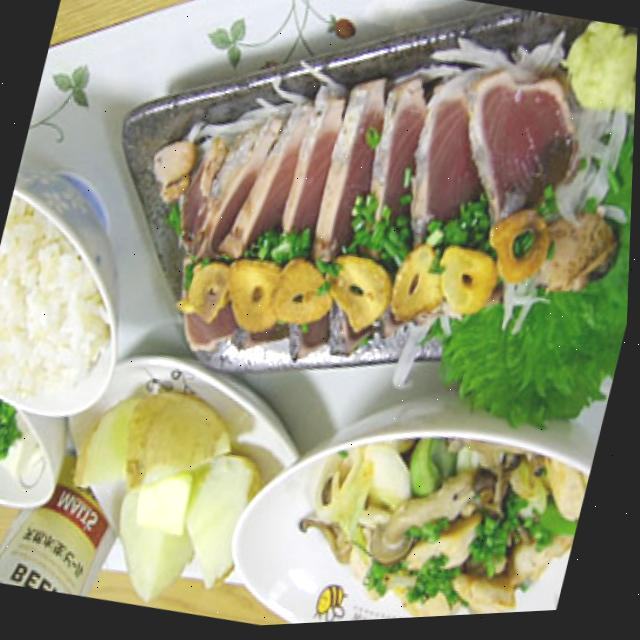熟制海鲜: (87, 0, 627, 454)
米饭主食: (0, 171, 157, 434)
豆腐料理: (0, 349, 81, 513)
